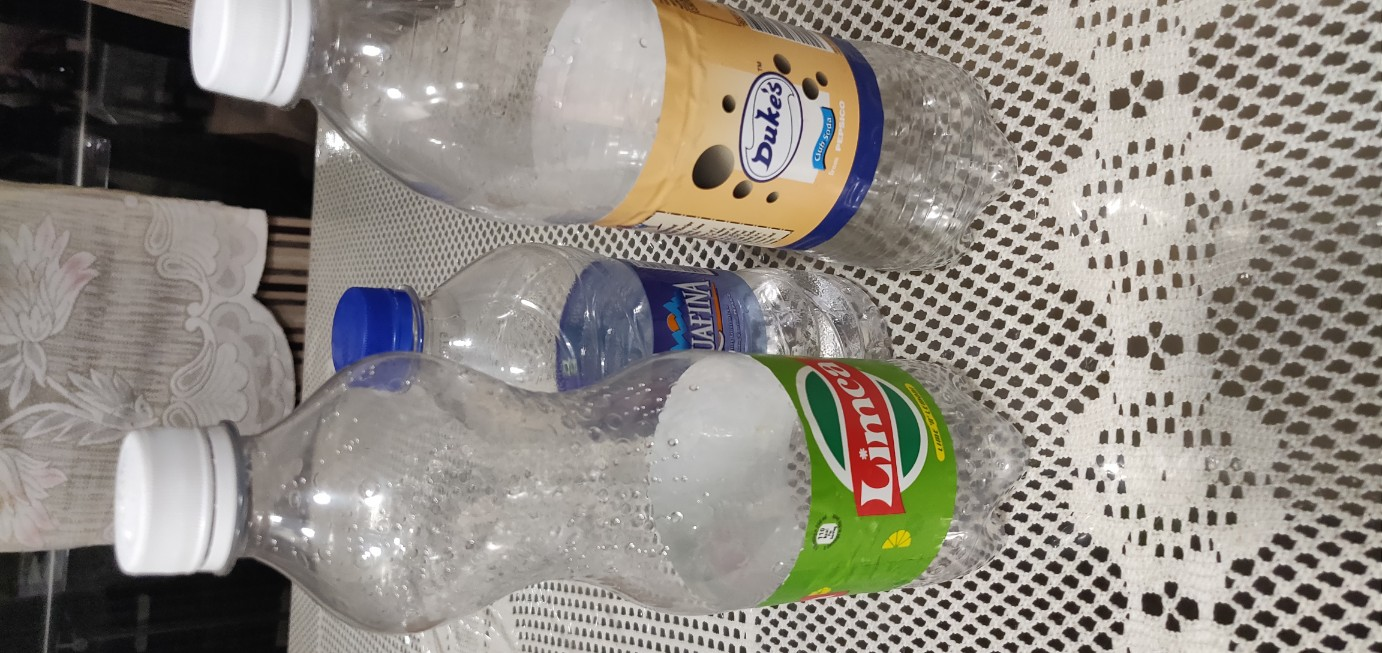Electronics: (69, 331, 1052, 642), (165, 2, 1038, 302), (291, 231, 941, 459)
